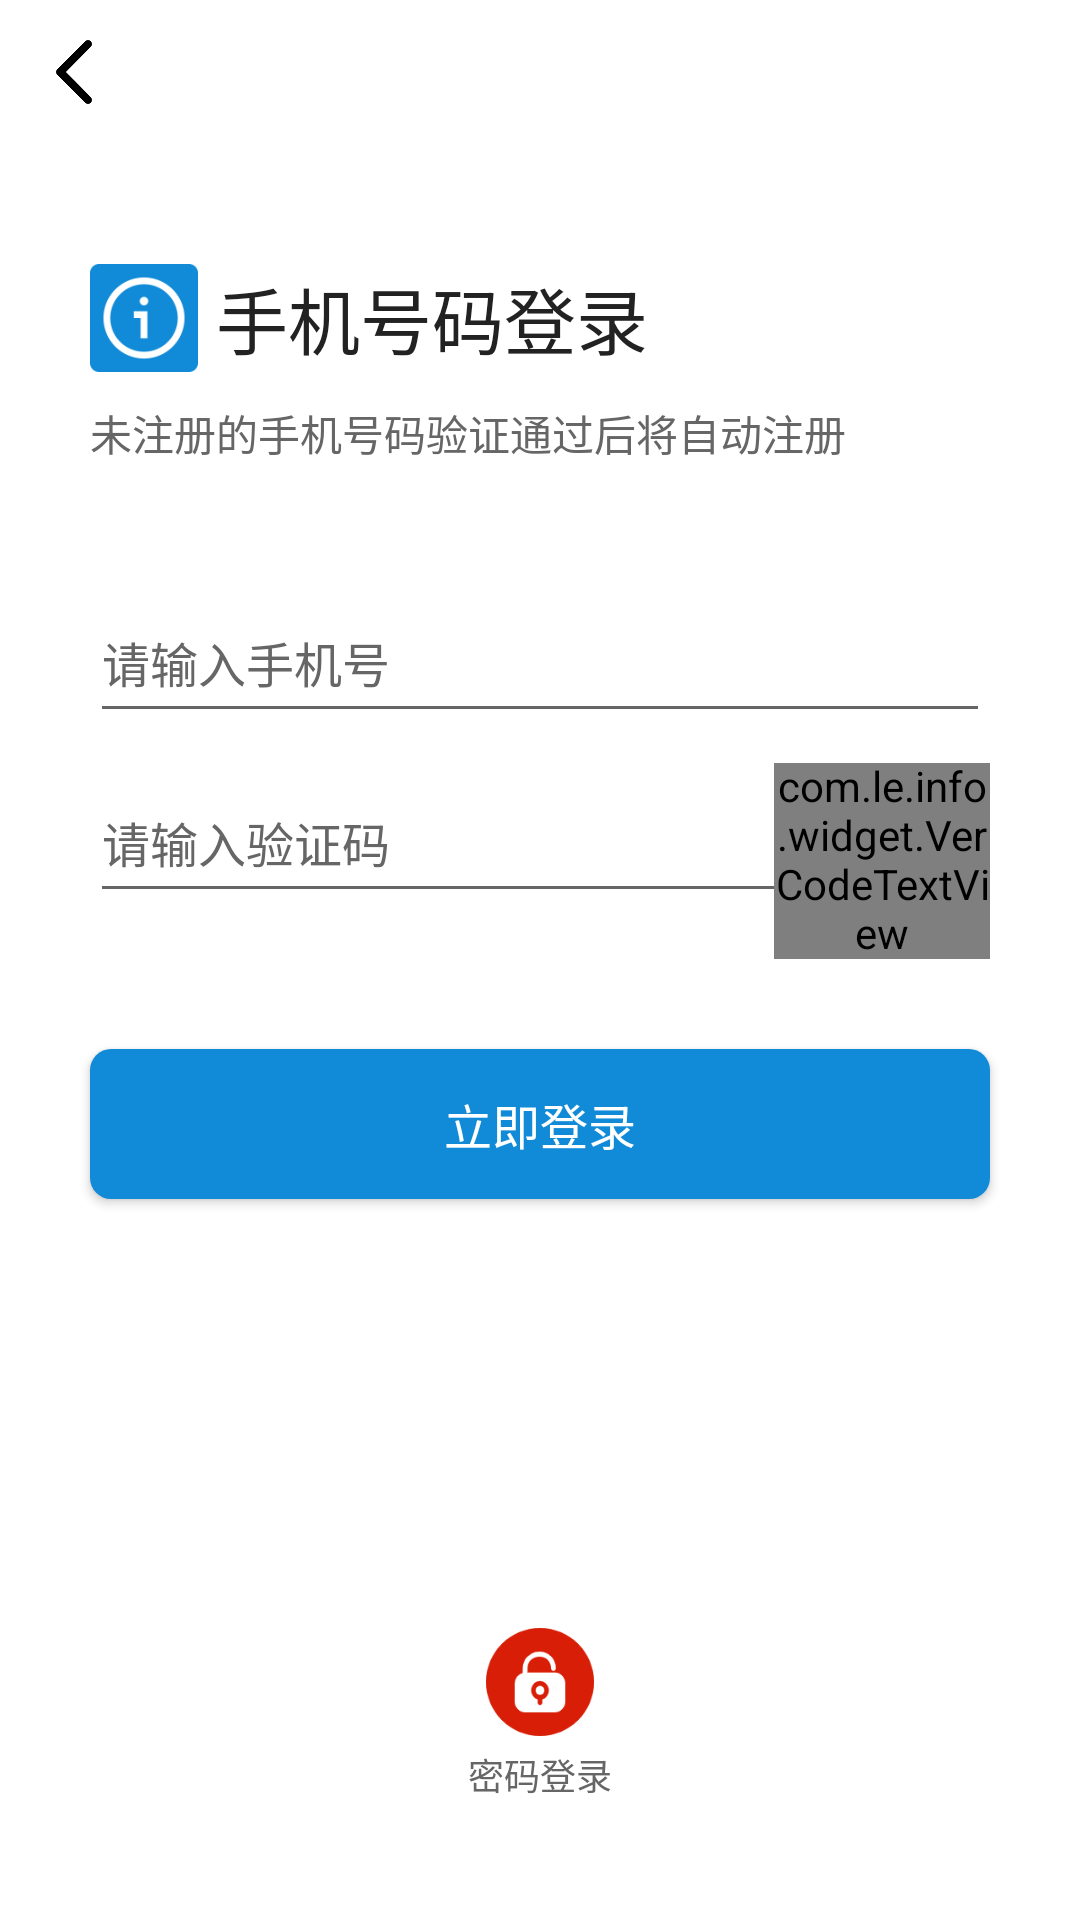

Point at icon controls on the screen. Image size 1080×1920, points as (x=x, y=y).
back: (x=74, y=72)
